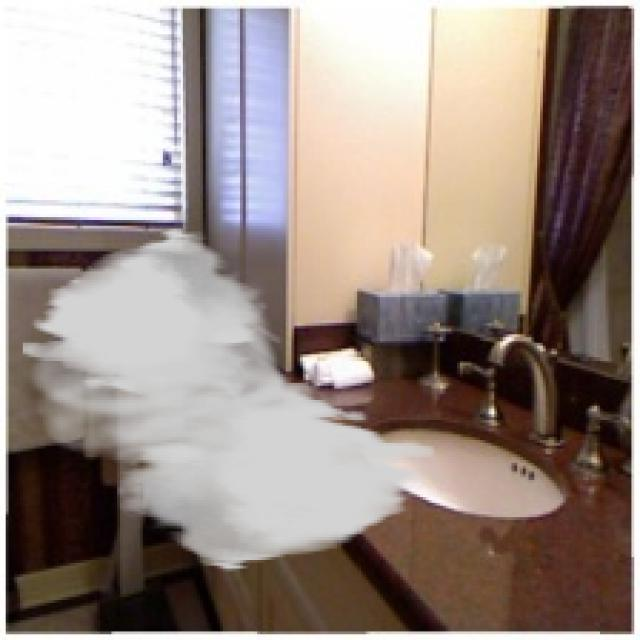smoke: (20, 226, 434, 571)
